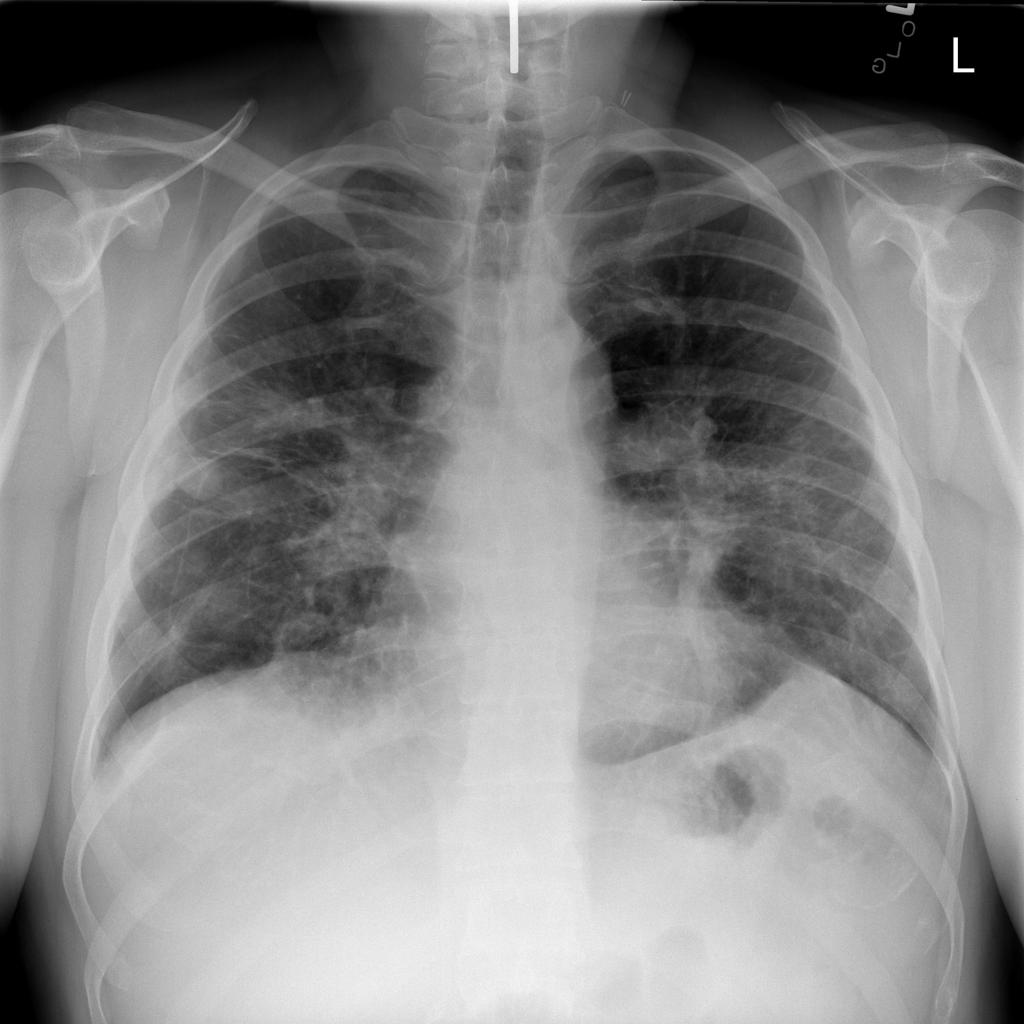nodule: (168, 445, 232, 513)
